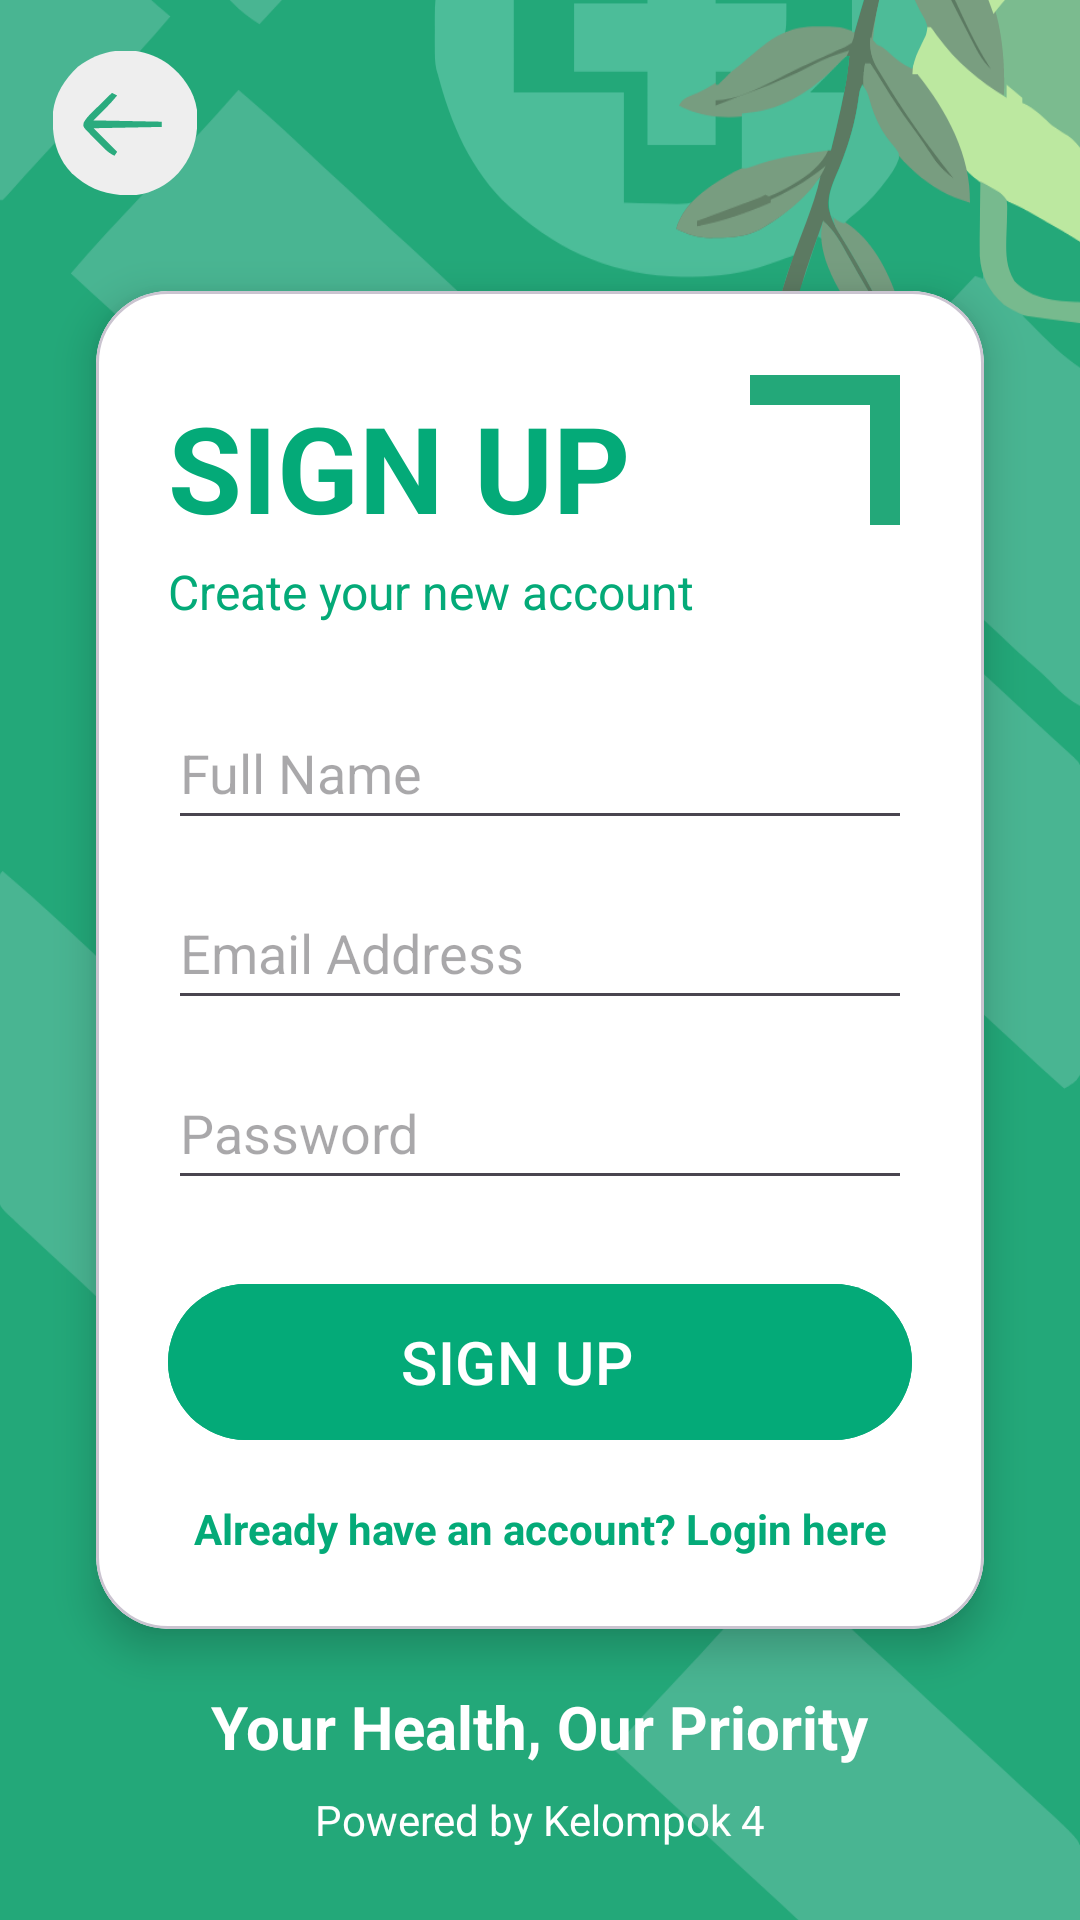

Icons on this 1080×1920 Android screen, each with the point to tap as (x,y):
arrow back: (123,123)
